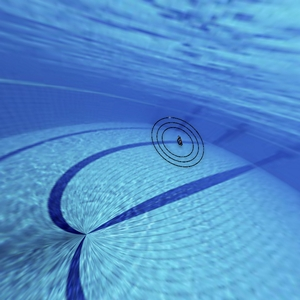circle: (145, 108, 211, 176)
submarine: (171, 132, 185, 149)
